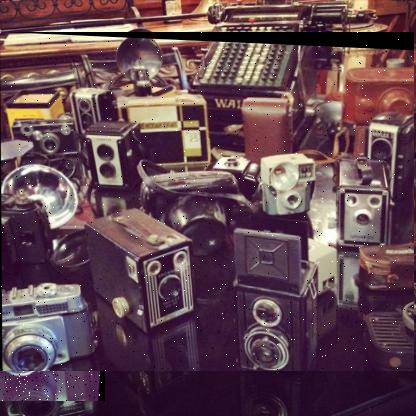Camera: (1, 33, 416, 373), (1, 281, 107, 403)
